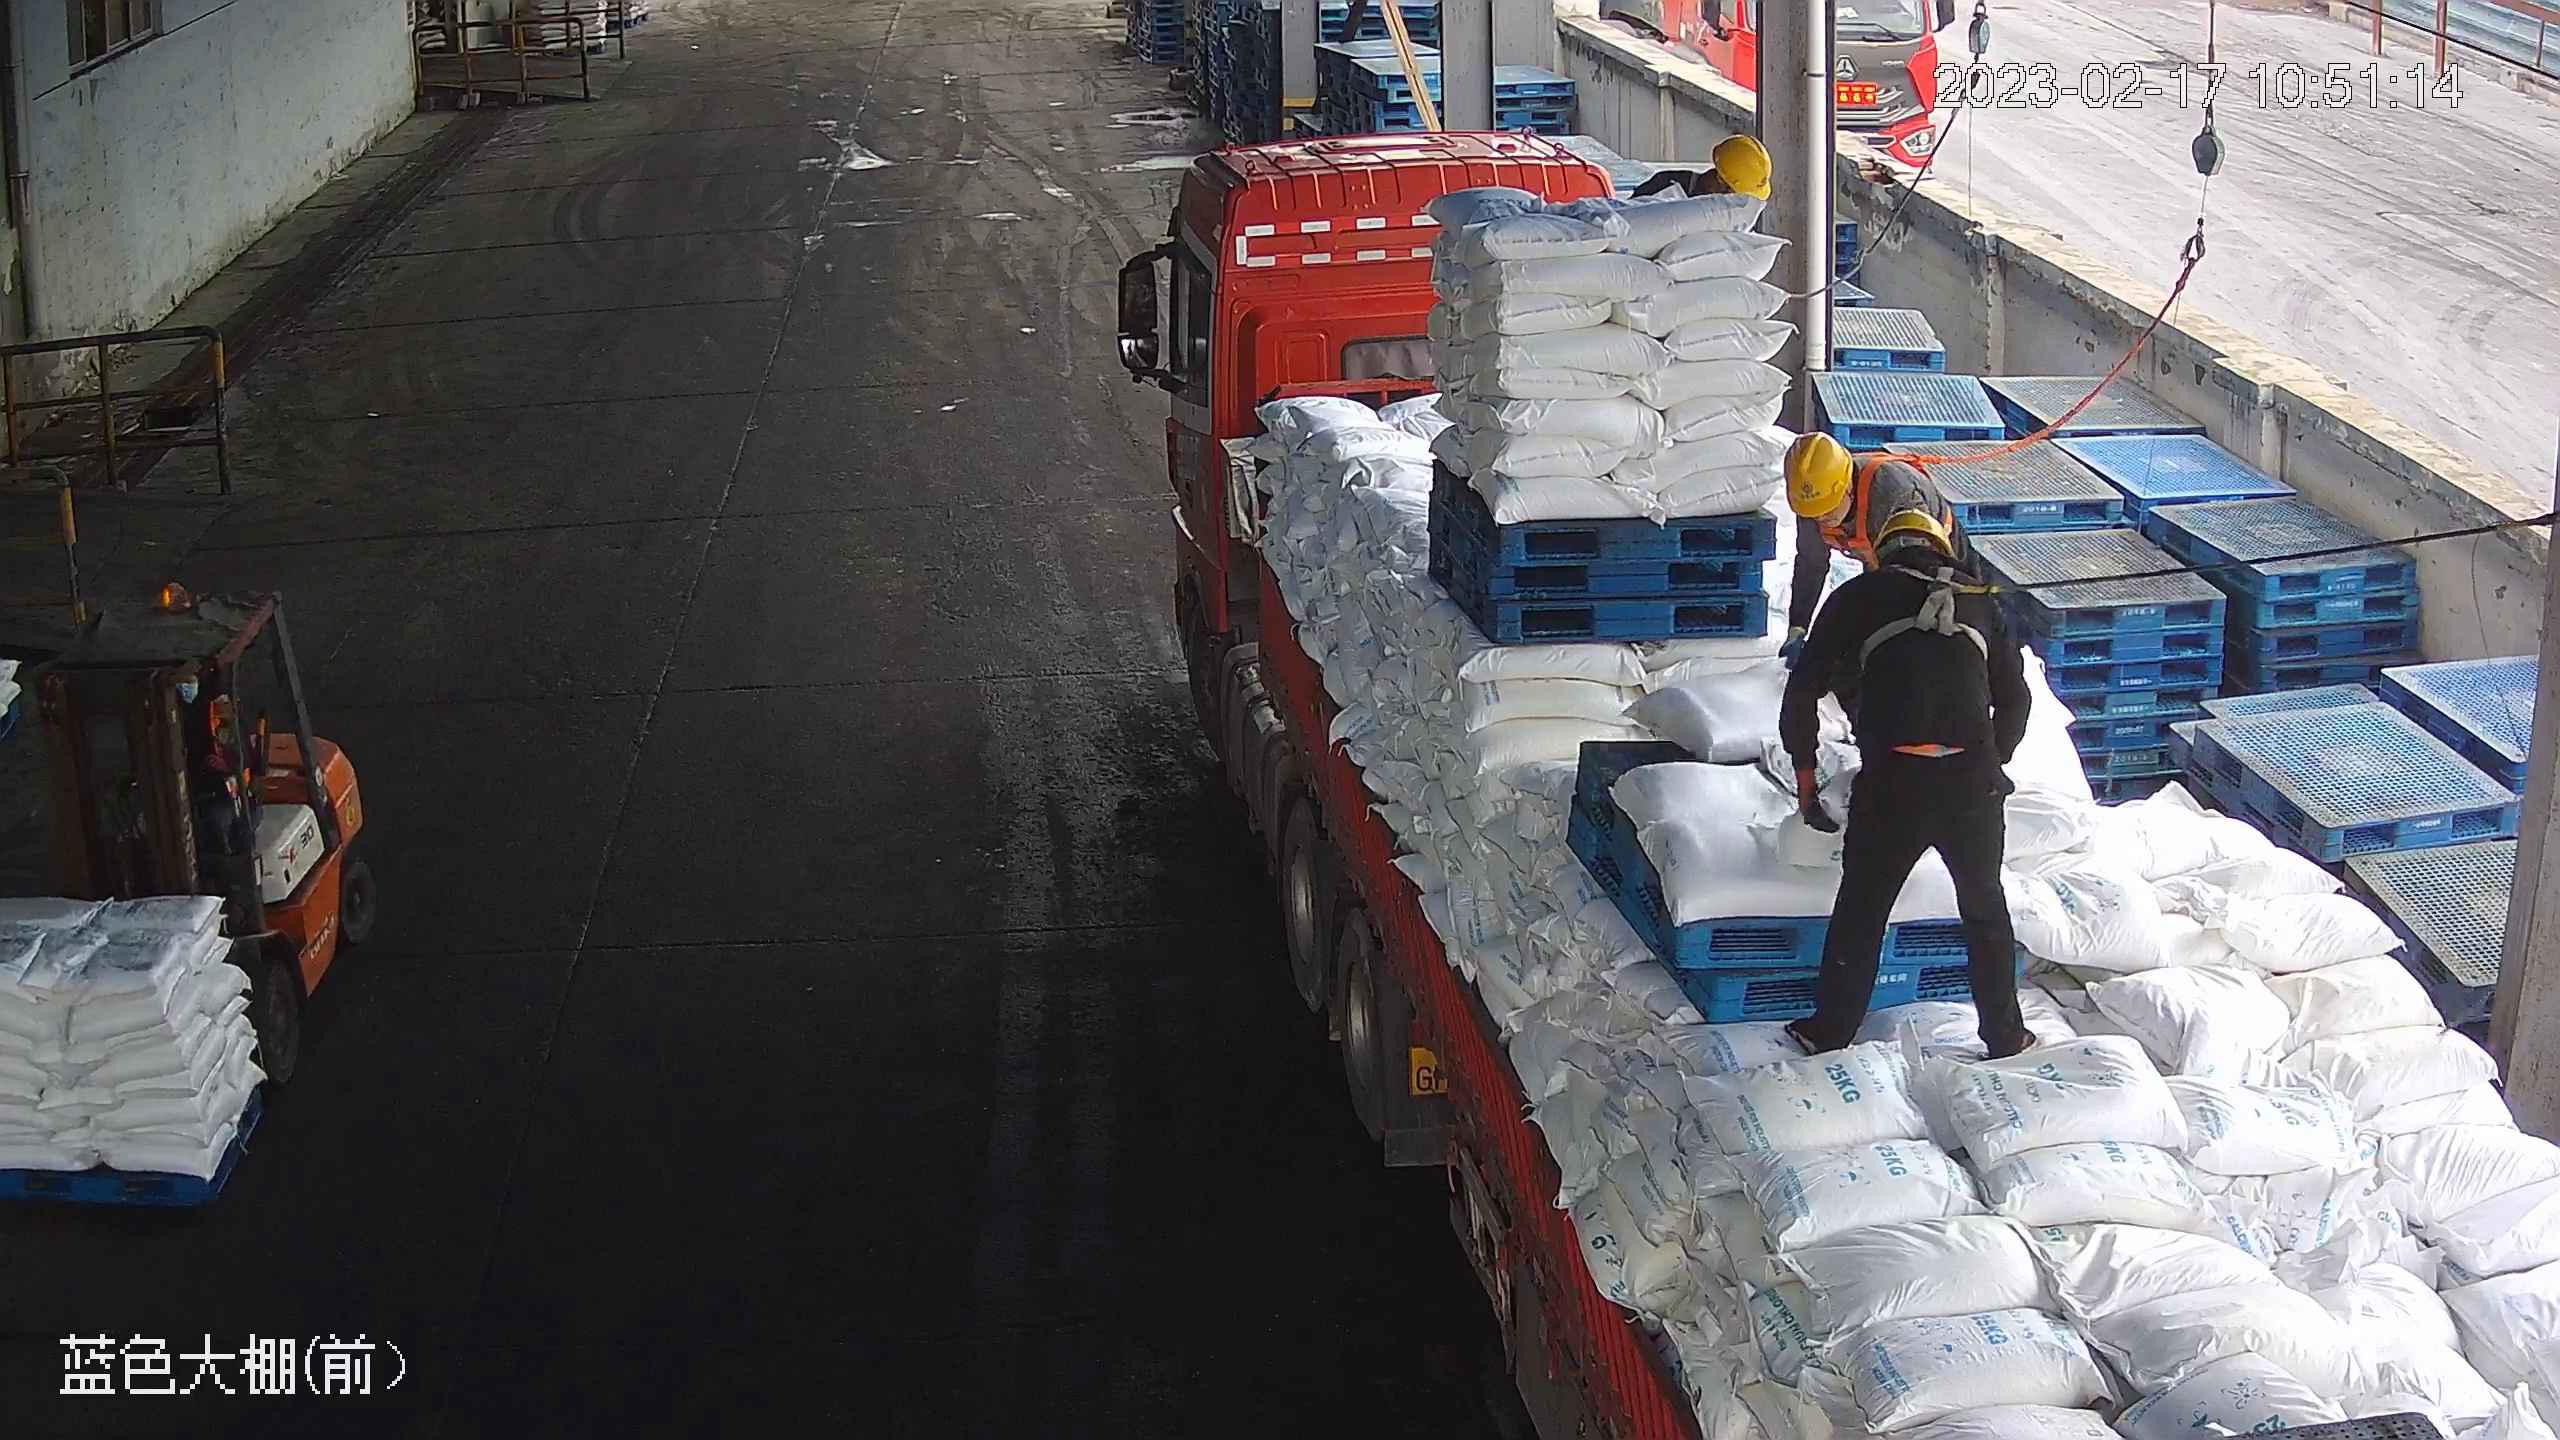belt: (1864, 560, 1997, 662), (1846, 451, 1947, 532)
head: (1830, 510, 1998, 628), (1784, 430, 1924, 544)
helmet: (1779, 426, 1856, 520), (1710, 129, 1779, 199), (1869, 506, 1948, 560)
people: (1779, 499, 2037, 1058)
truck: (1128, 141, 2560, 1440)
